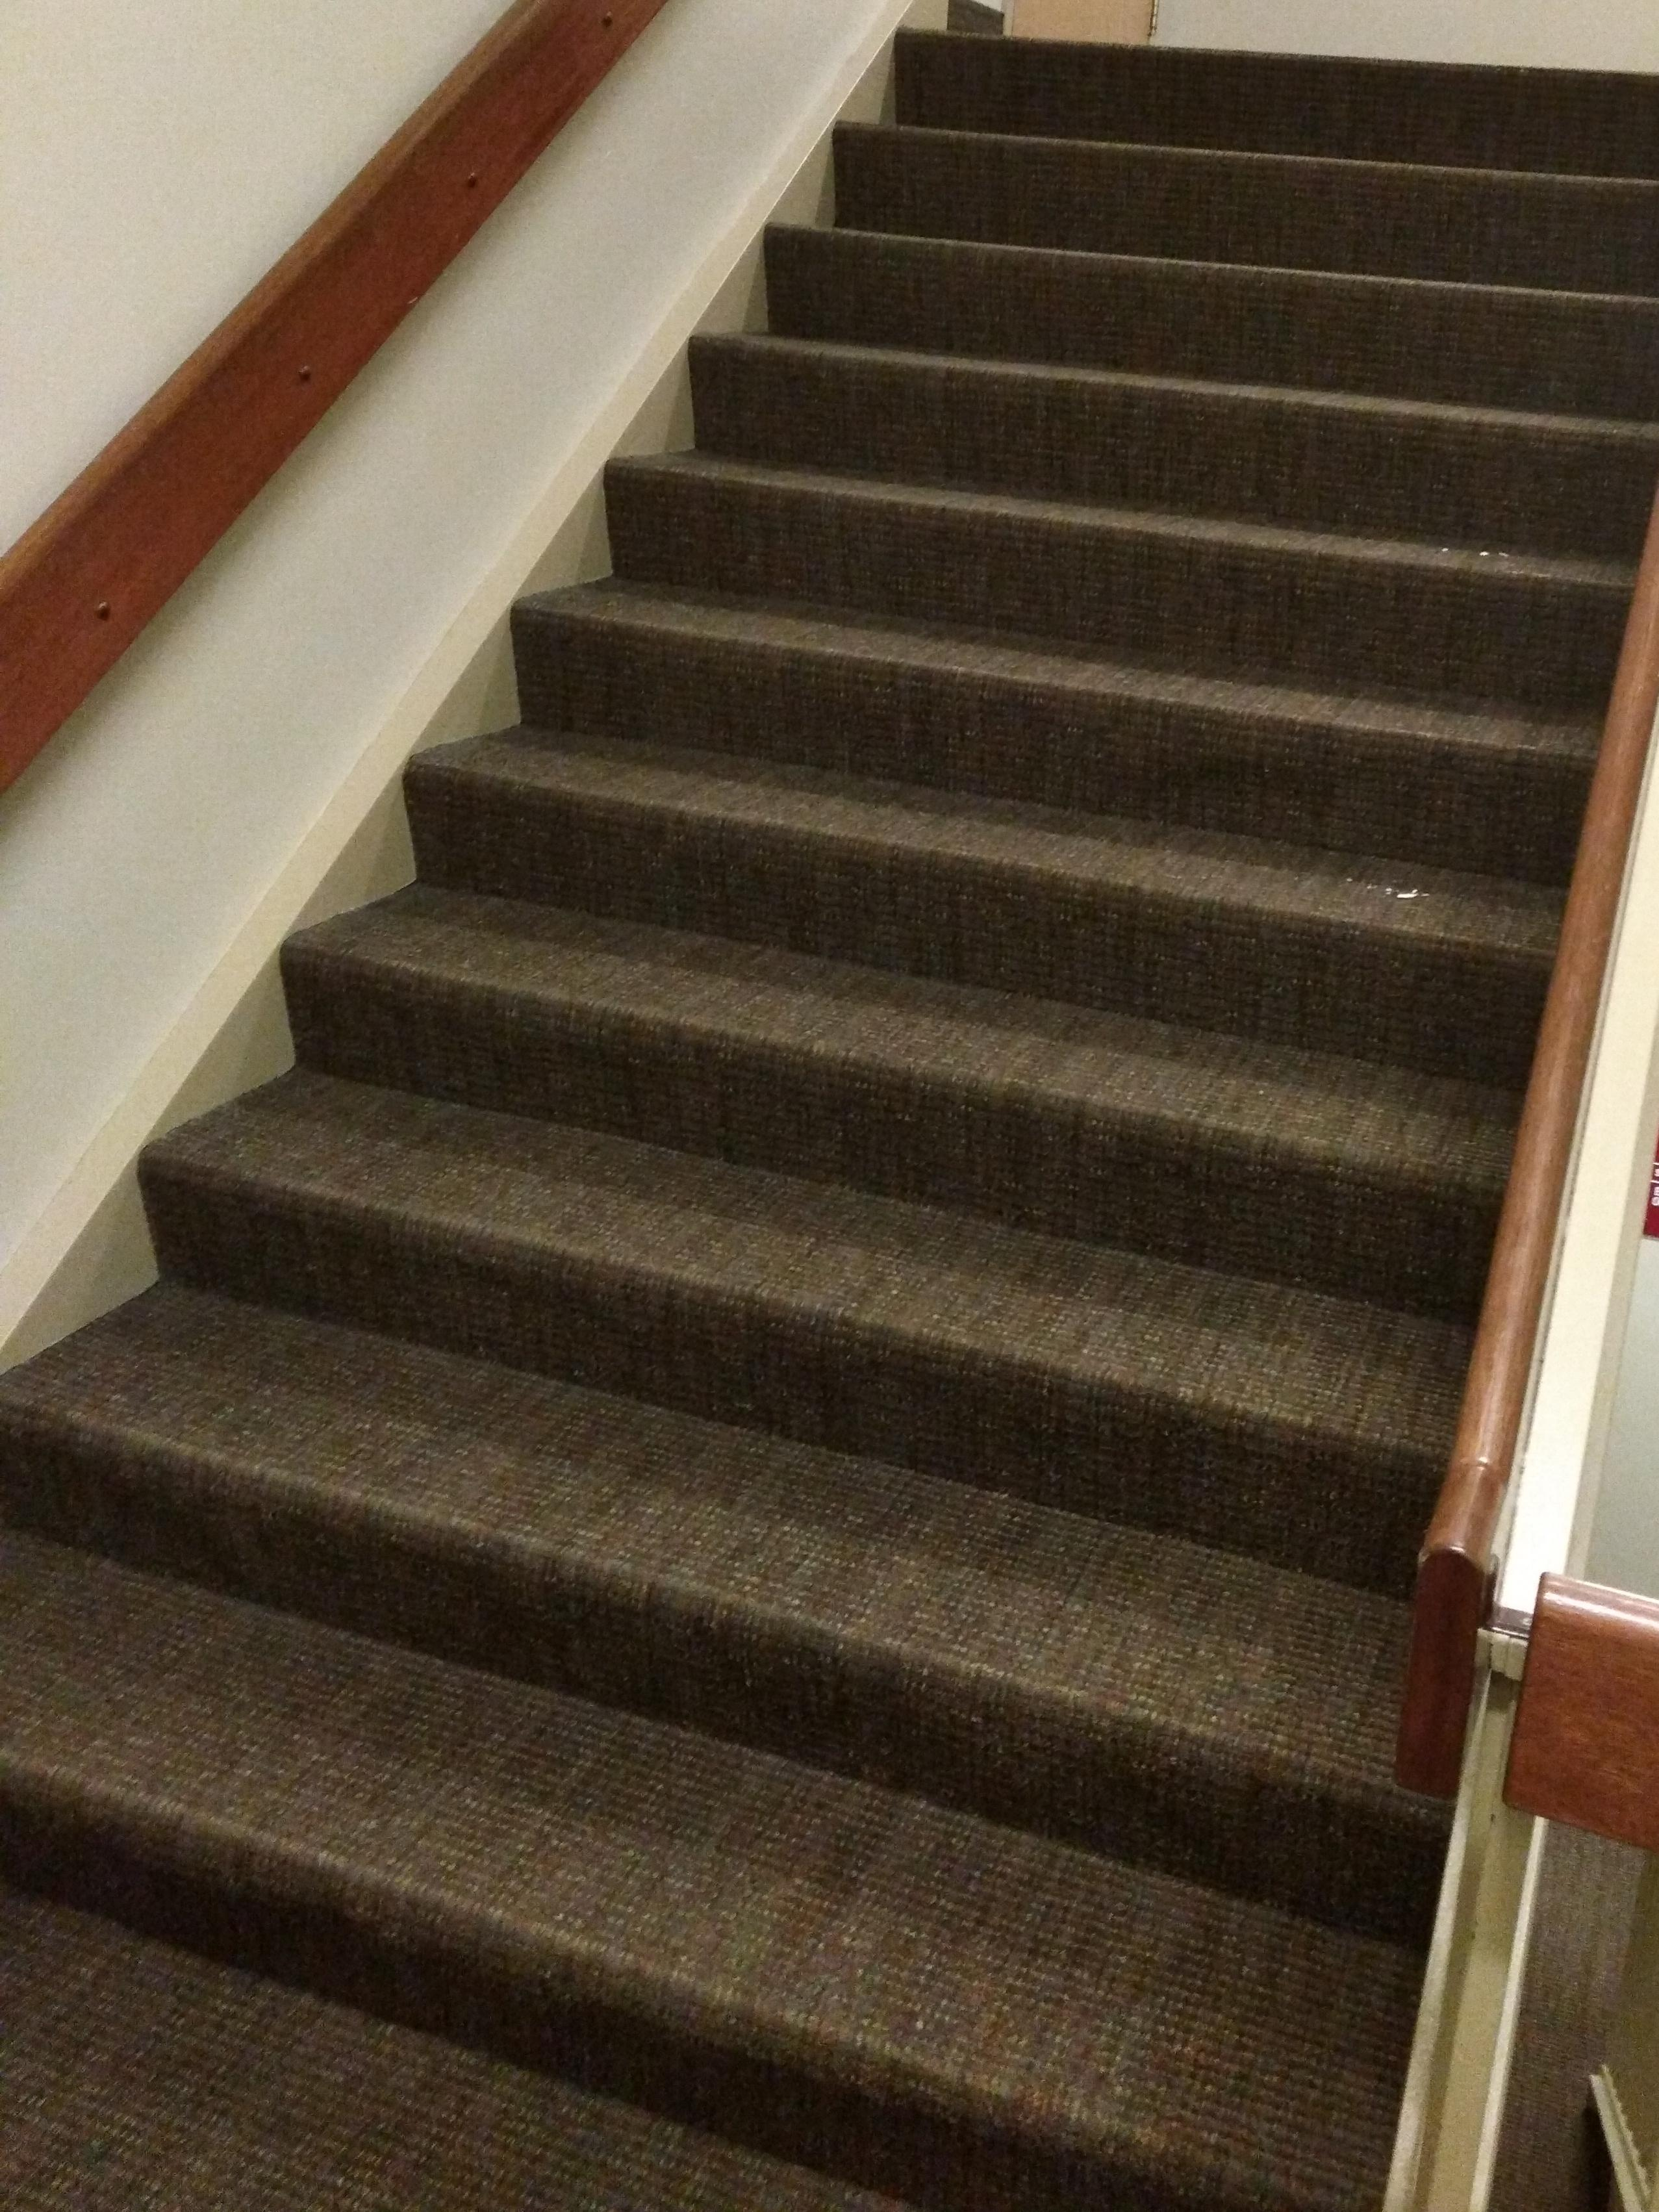stairs_up: (10, 19, 1659, 2212)
